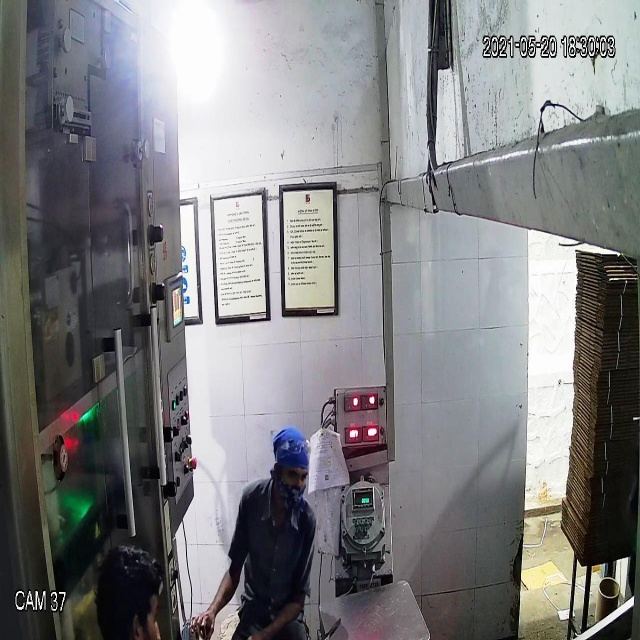Sin_gafas: (268, 460, 314, 494)
